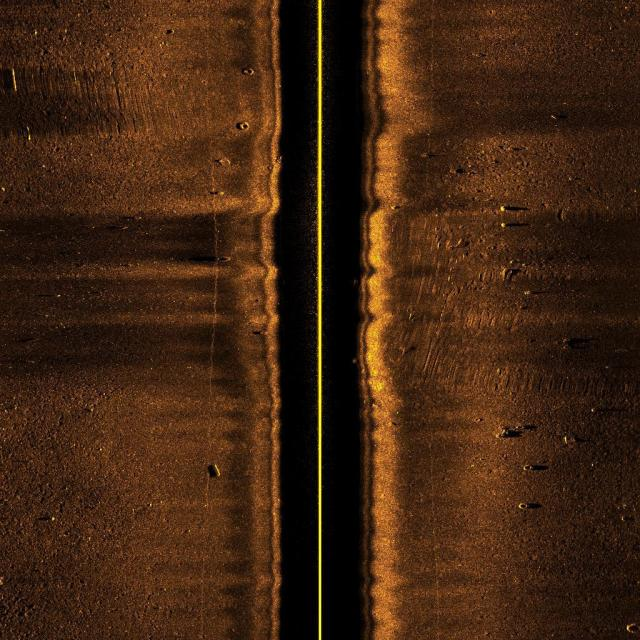mine: (1, 64, 21, 94), (205, 461, 224, 481)
other: (235, 120, 259, 141), (617, 620, 640, 636), (520, 458, 538, 477), (242, 64, 260, 78), (514, 499, 532, 513)
